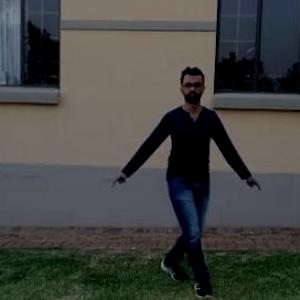land: (124, 77, 258, 264)
